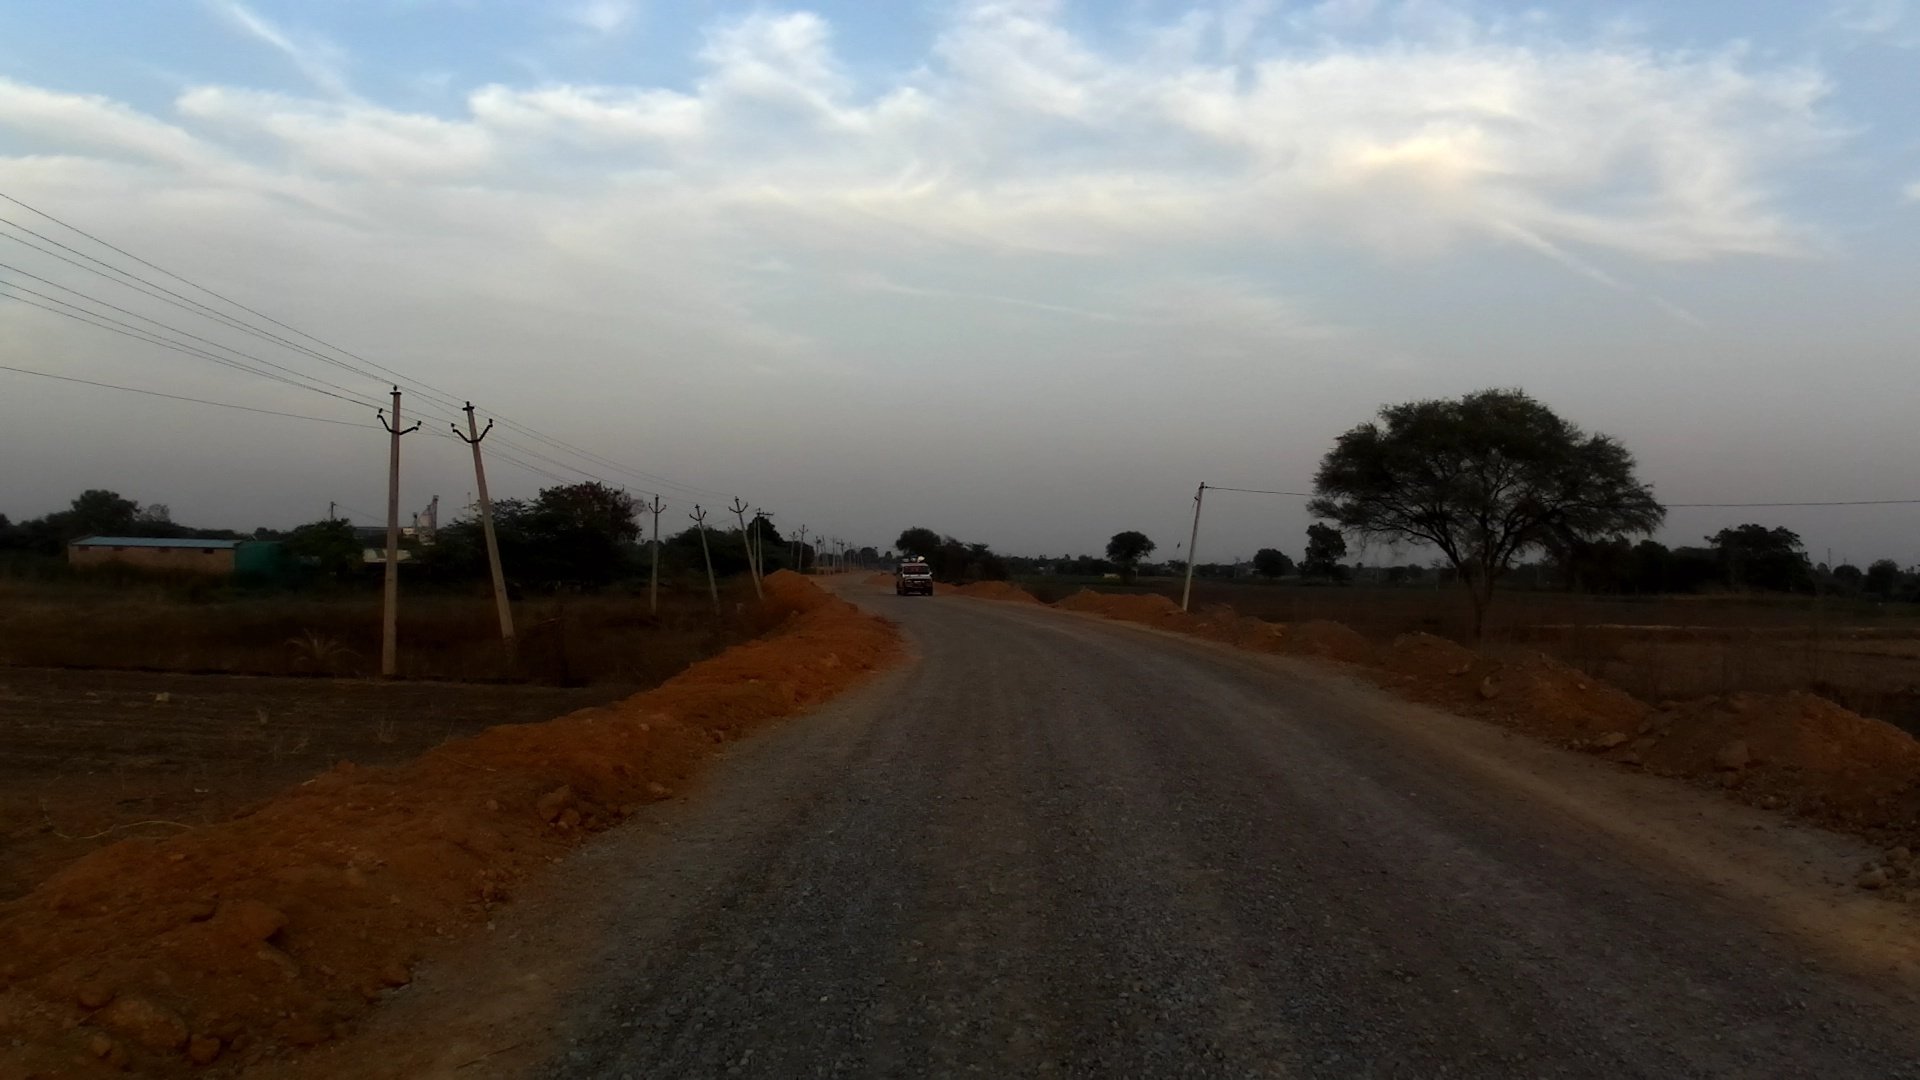car: (895, 560, 938, 597)
